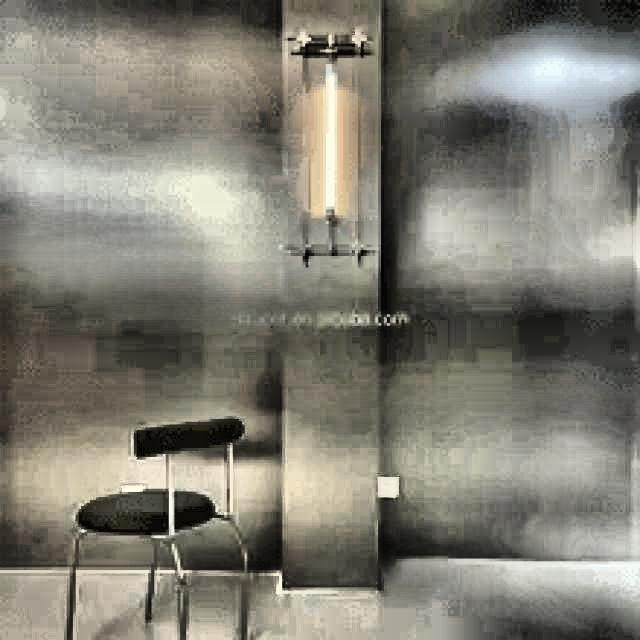cadeira: (59, 413, 262, 640), (75, 414, 248, 534)
